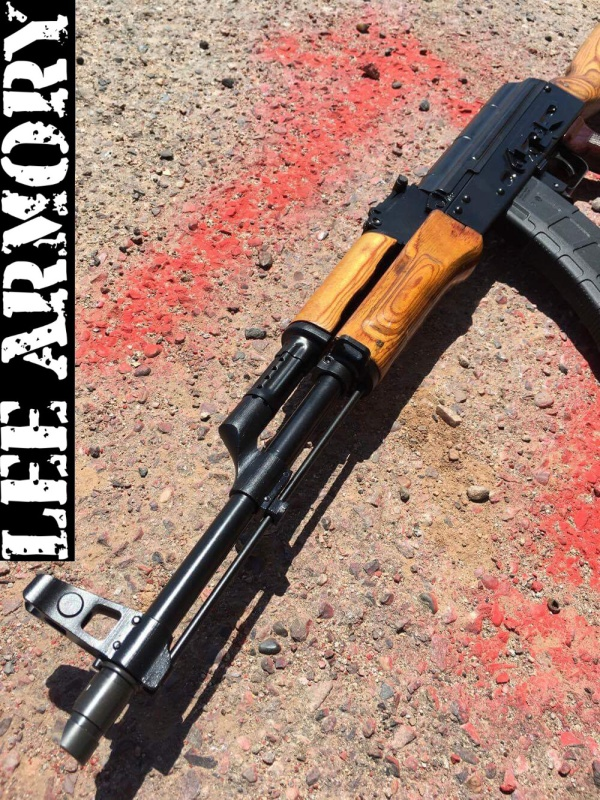ak47: (32, 77, 600, 758)
